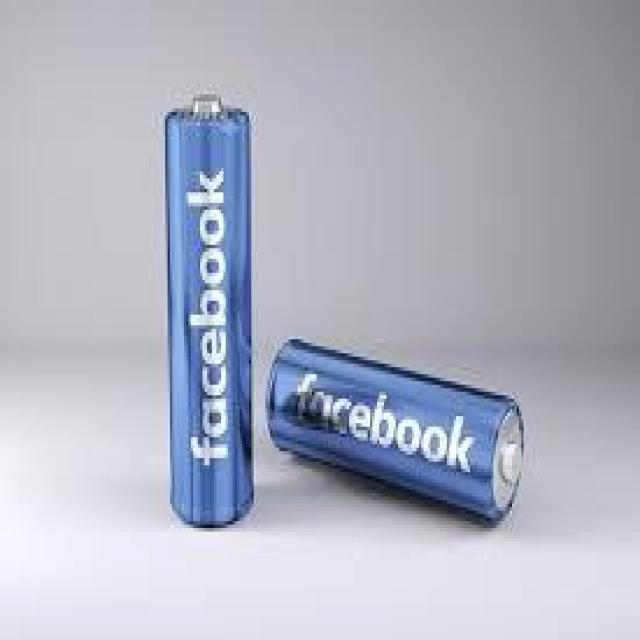AA: (263, 332, 524, 525), (163, 91, 254, 525)
